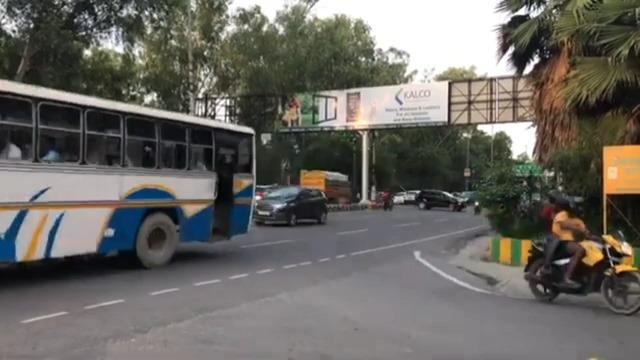Bike: (523, 191, 640, 315)
Bus: (0, 74, 256, 275)
Truck: (298, 168, 353, 205)
